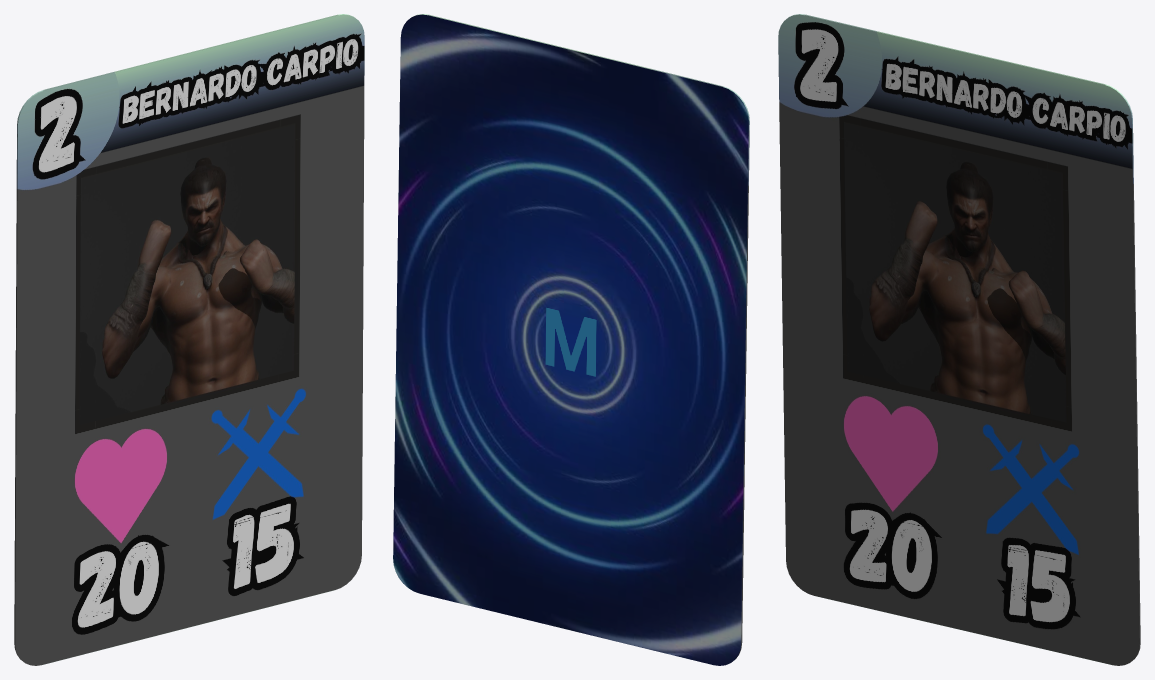
The model's file is Bernardo Carpio2.glb.
3 views of the same model, side by side, from view 1: azimuth 30°, elevation 25°; view 2: azimuth 150°, elevation 25°; view 3: azimuth 330°, elevation 25° (orthographic).
Visible parts, largest first — view 1: Card; view 2: Card; view 3: Card.
Part boxes in pixels (left/top/right/bottom): Card: left=14, top=14, right=364, bottom=665; Card: left=393, top=14, right=749, bottom=665; Card: left=778, top=14, right=1140, bottom=665.
Size of the model in its own units: 0.0564 by 0.0891 by 0.0024.
Materials: 2 (2 with a texture image).
